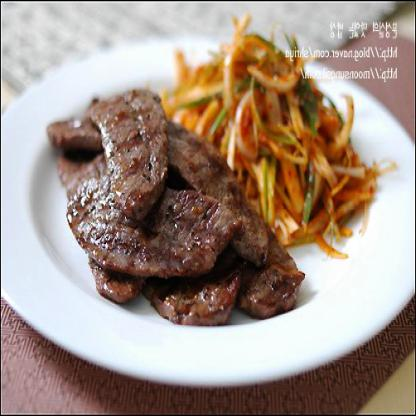Carne: (57, 167, 234, 274), (164, 123, 270, 262), (92, 78, 171, 220), (142, 267, 239, 326), (234, 259, 304, 317)
